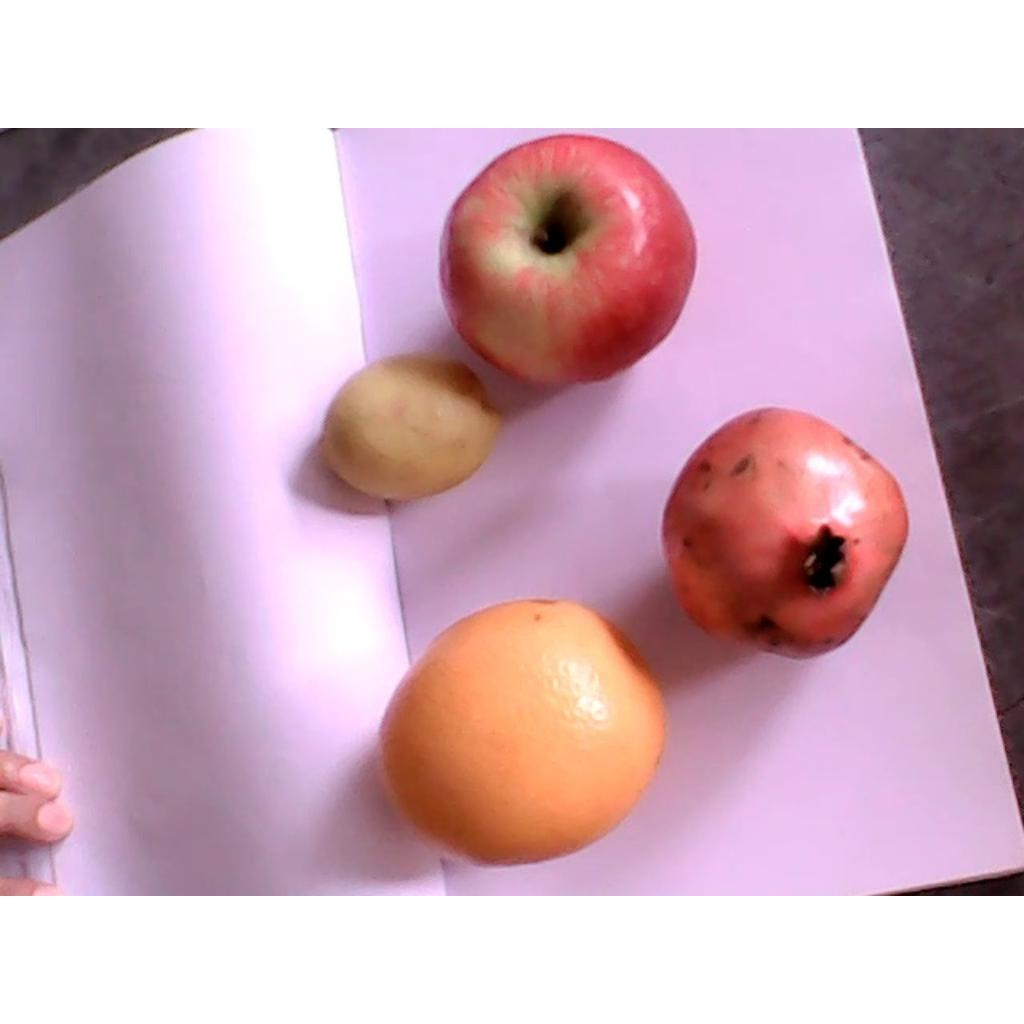apple: (437, 133, 700, 385)
lemon: (316, 351, 503, 502)
orange: (374, 593, 673, 869)
pomegranate: (663, 409, 908, 658)
